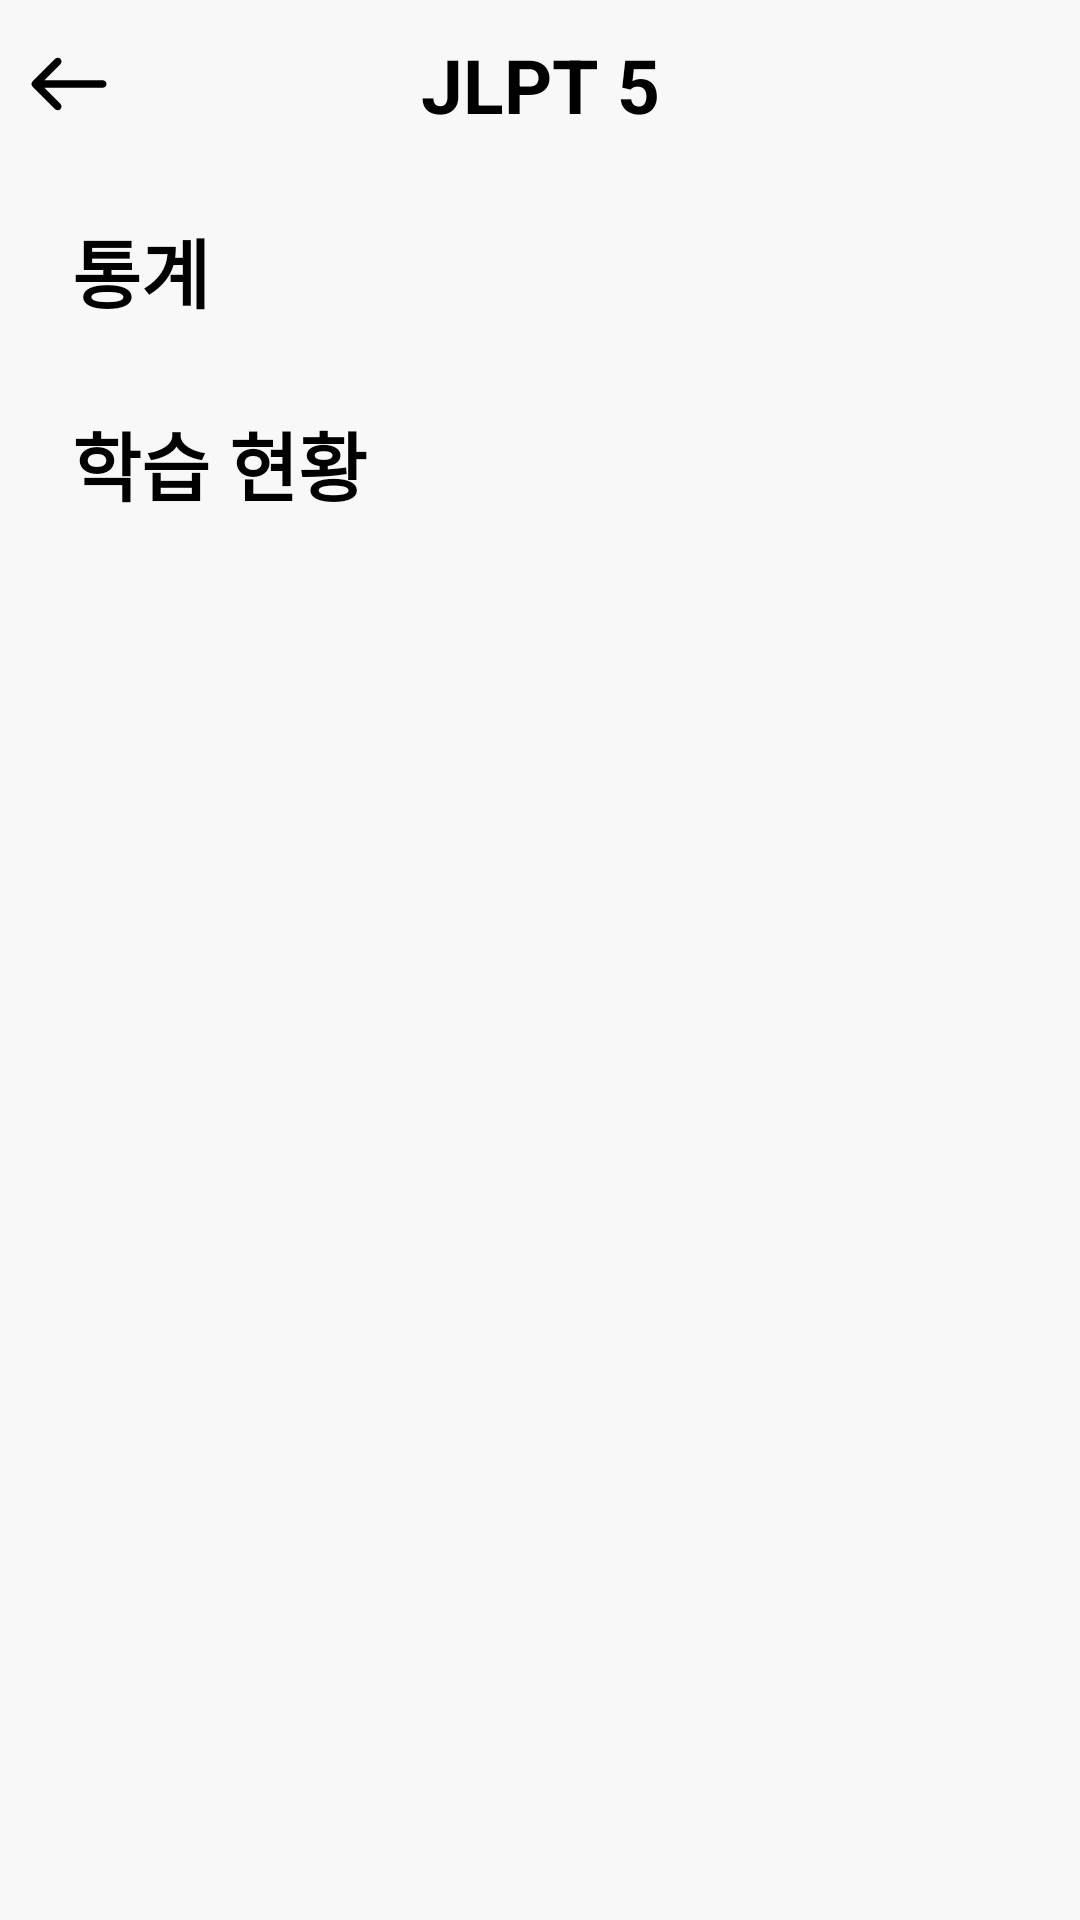

Screen size 1080x1920. Icon name, then its box in pixels as region(x1, y1, x2, y2):
arrow: region(31, 57, 107, 111)
